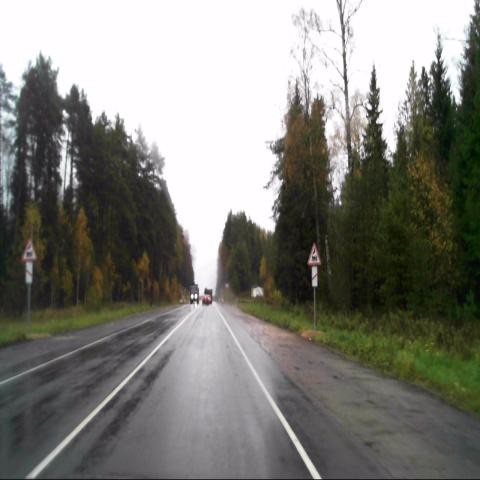1_2: (308, 242, 321, 266)
